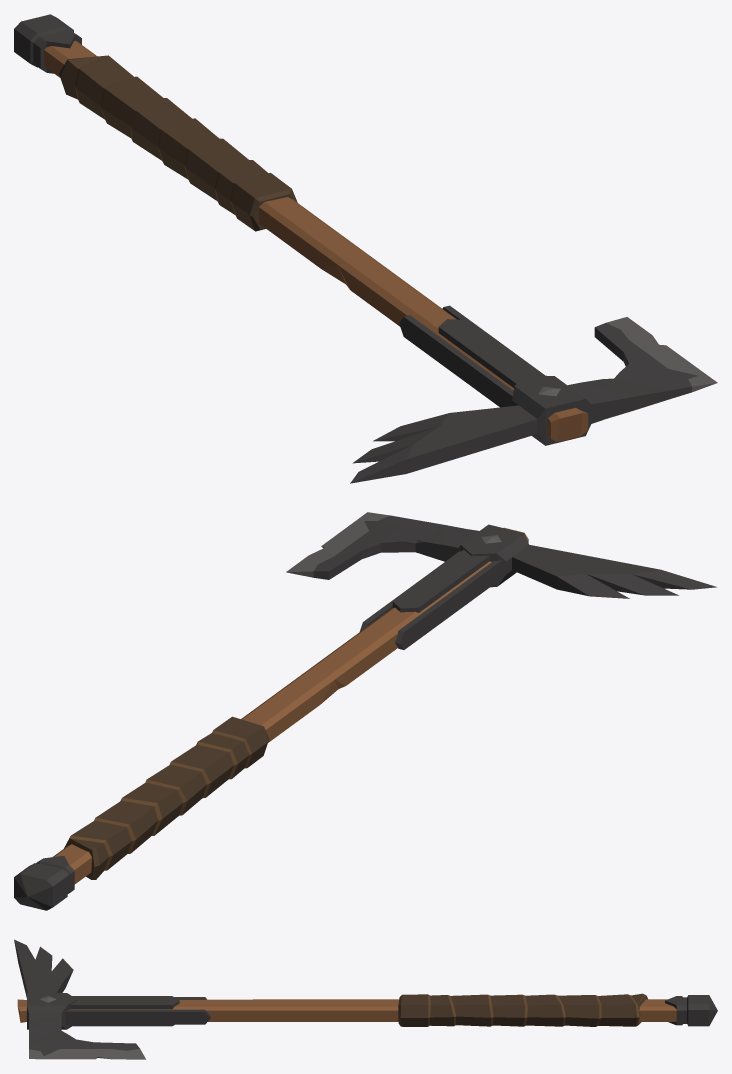
Rendered from SM_Axe_War_Dwarf.fbx.
The picture shows the model from 3 angles, top to bottom: view 1: azimuth 30°, elevation 25°; view 2: azimuth 150°, elevation 25°; view 3: azimuth 270°, elevation 25°; orthographic projection. The views are drawn at different scales.
Parts seen in each view (by area): view 1: SM_Axe_War_Dwarf; view 2: SM_Axe_War_Dwarf; view 3: SM_Axe_War_Dwarf.
Boxes of the visible parts, left/top/right/bottom form: SM_Axe_War_Dwarf: left=14, top=14, right=717, bottom=483; SM_Axe_War_Dwarf: left=14, top=512, right=717, bottom=910; SM_Axe_War_Dwarf: left=14, top=939, right=717, bottom=1059.
Size of the model in its own units: 59.62 by 148 by 6.18.
